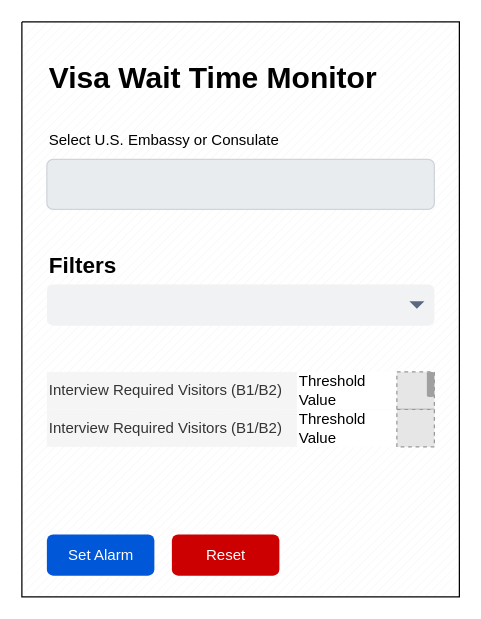
Image size: 481x619. Some labels were removed from this diagram. Grey dashed boxes stand in for pictures. Each missing label, with the centre of its shape:
"Enter city..." goes at pixel 240 183.
"Select Non-Immigrants Types" goes at pixel 240 304.
